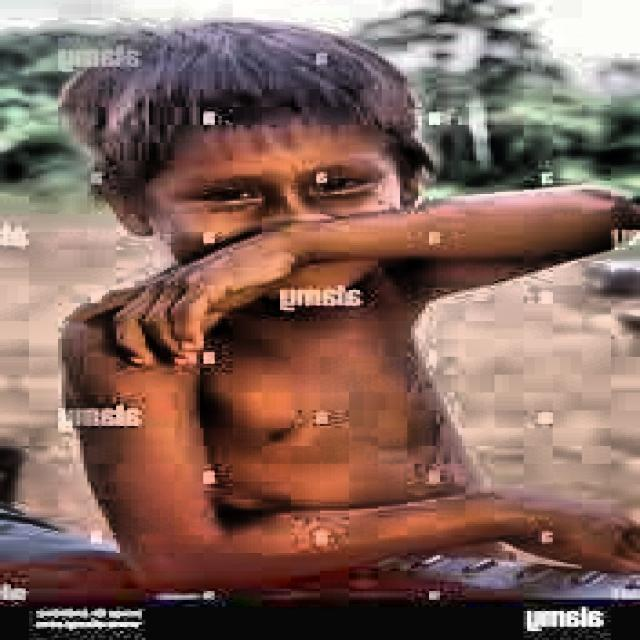Human: (22, 23, 631, 561)
